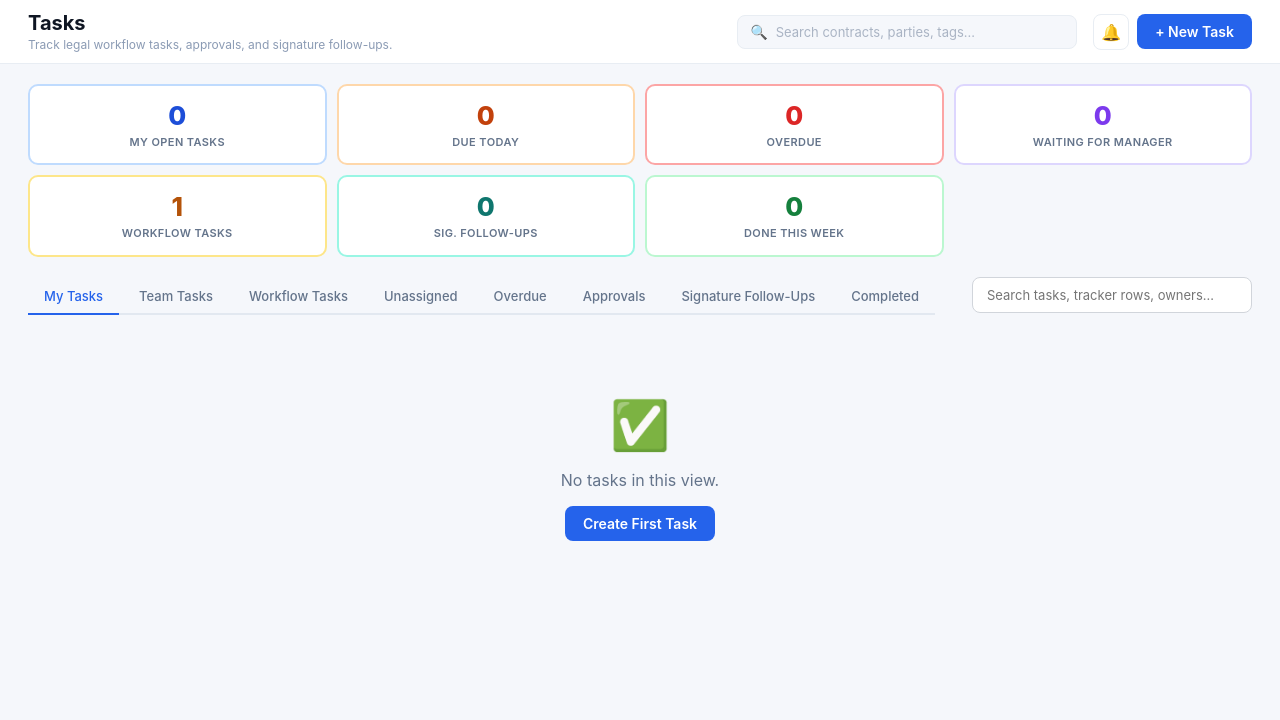
(asgn-17) AssignModal opens with user selector when Assign clicked
Click the button "Workflow Tasks".
click(298, 297)  # box [233,279,364,315]
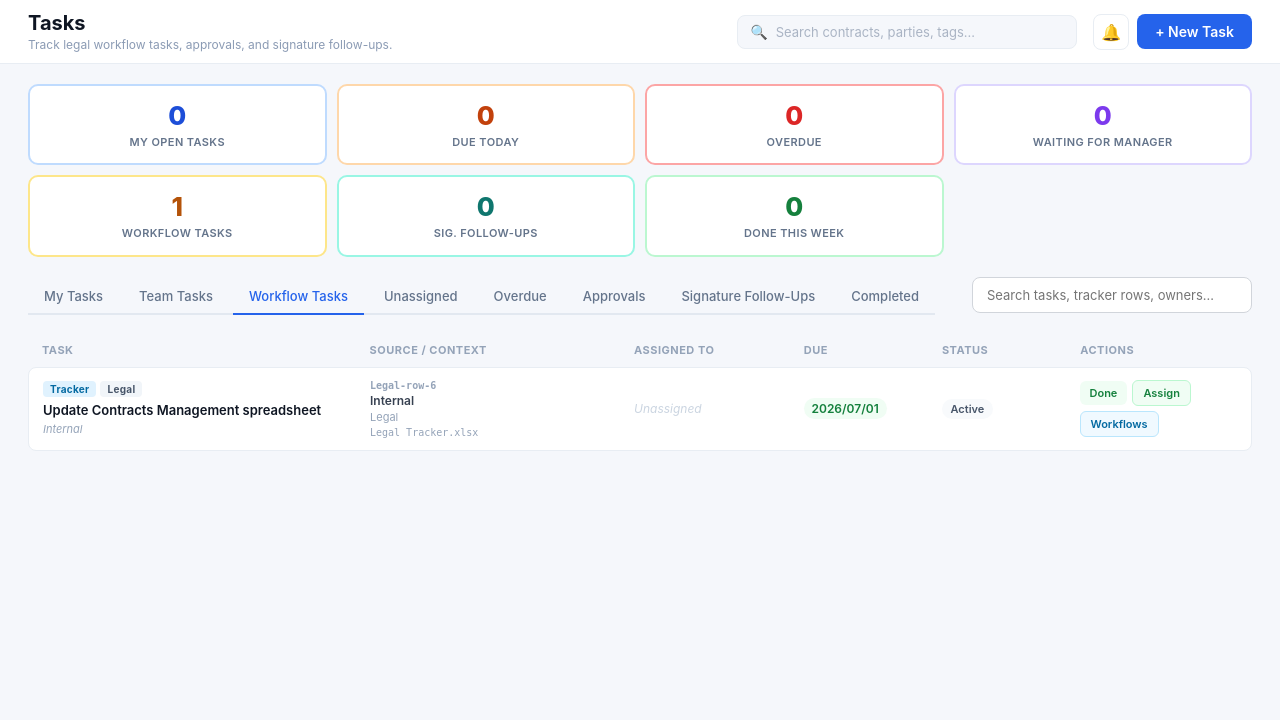
Click the button "Assign".
click(1162, 393)  # box [1132,380,1191,406]
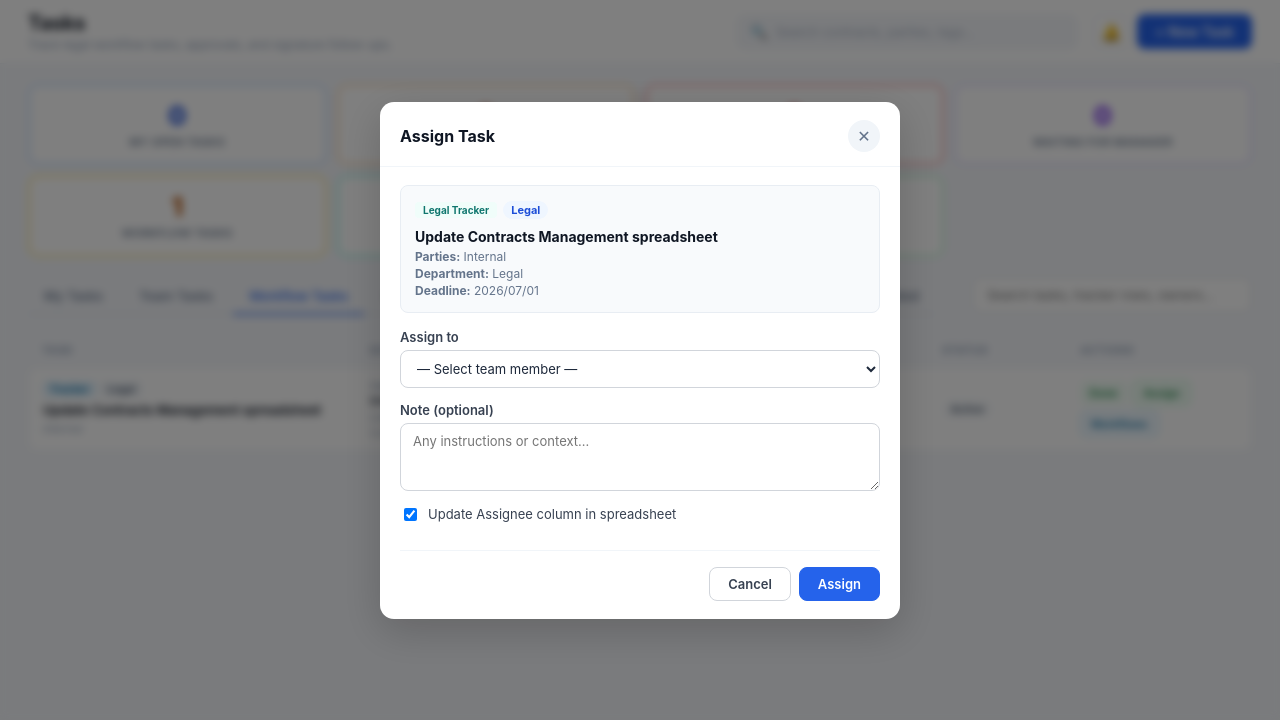
Check: the dropdown is shown, box [400,350,880,388]
Check: the text "Assign to" is shown, box [400,328,880,388]
